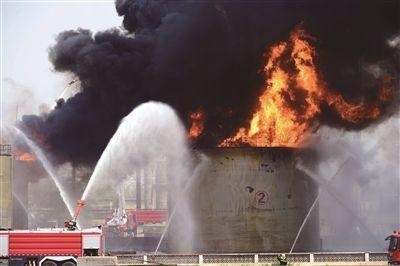fire: (217, 27, 397, 148), (188, 109, 204, 136)
